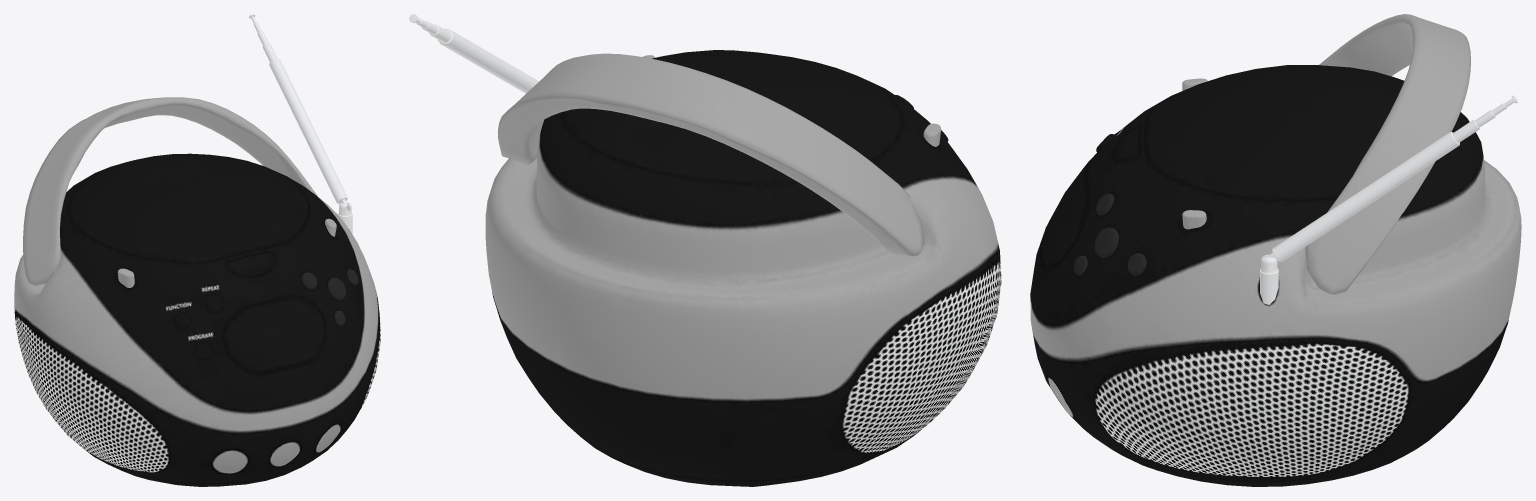
The model's file is boombox.glb.
3 renders of one model, left to right at view 1: azimuth 30°, elevation 25°; view 2: azimuth 150°, elevation 25°; view 3: azimuth 270°, elevation 25°, orthographic. The views are drawn at different scales.
Parts seen in each view (by area): view 1: BoomBox; view 2: BoomBox; view 3: BoomBox.
Boxes of the visible parts, bbox=[...] form: BoomBox: bbox=[14, 14, 380, 486]; BoomBox: bbox=[409, 14, 1001, 486]; BoomBox: bbox=[1030, 14, 1521, 486].
Bounding box in the file's own units: 0.0198 × 0.0195 × 0.0202.
1 material, 1 textured.
